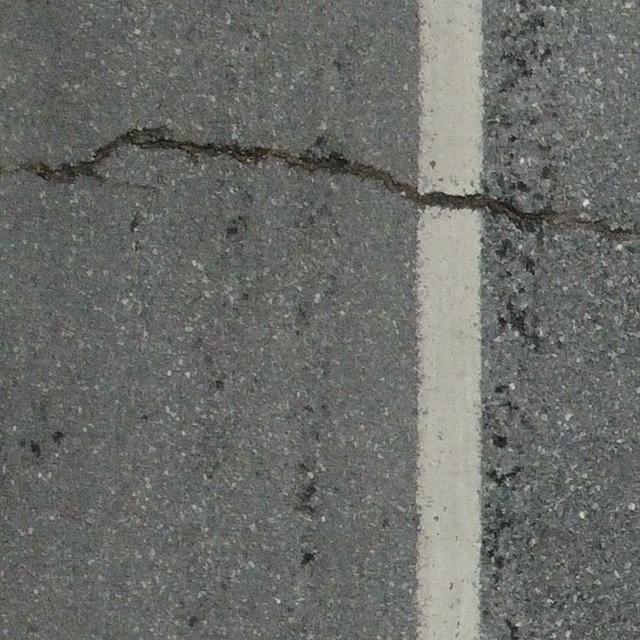TransverseCrack: (14, 126, 640, 246)
